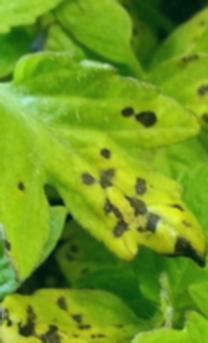Tomato leaf: (0, 0, 93, 50)
Tomato leaf bacterial spot: (0, 49, 208, 277), (0, 281, 169, 343)
